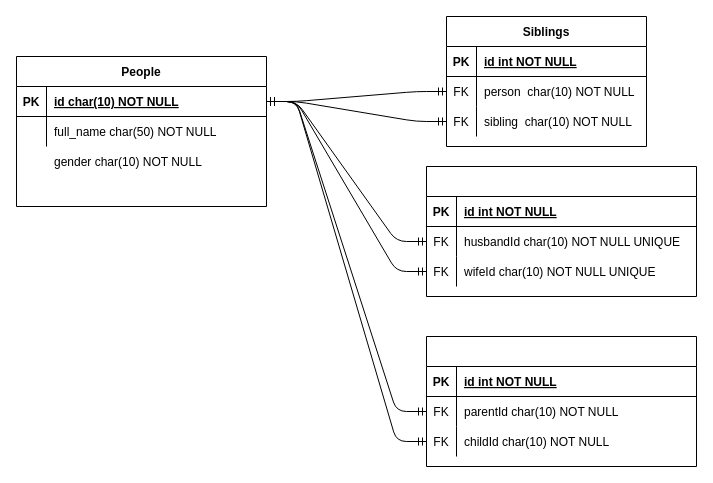
The diagram is 713 pixels wide and 483 high, and some of its shapes have lost their labels. Here are the shapes that lost their labels. From the top down, the box of each, then its label:
(426, 166, 696, 296): Spouse
(426, 336, 696, 466): Parents
